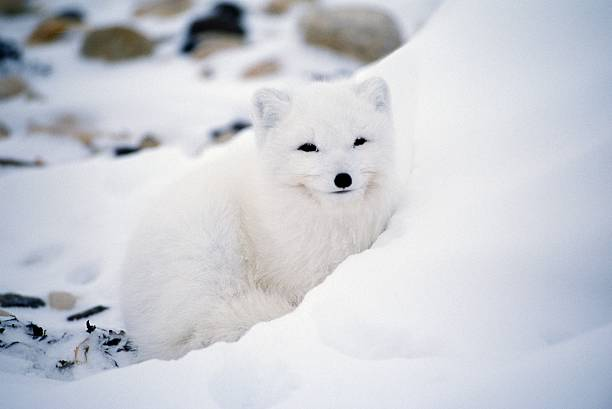arcticfox: (262, 79, 390, 218)
